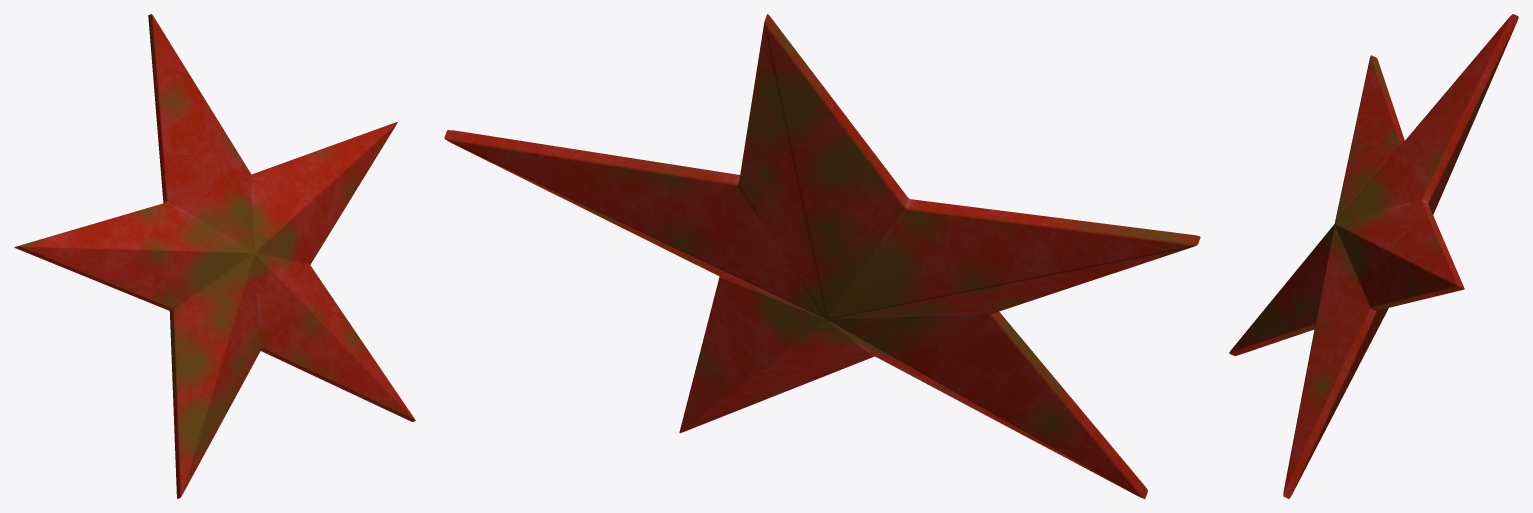
File: svesda.fbx
3 renders of one model, left to right at view 1: azimuth 30°, elevation 25°; view 2: azimuth 150°, elevation 25°; view 3: azimuth 270°, elevation 25°, orthographic. The views are drawn at different scales.
Visible parts, largest first — view 1: Star_0; view 2: Star_0; view 3: Star_0.
Part boxes in pixels (bbox=[...]): Star_0: bbox=[14, 14, 415, 498]; Star_0: bbox=[444, 14, 1200, 498]; Star_0: bbox=[1229, 14, 1518, 498].
Bounding box in the file's own units: 184 × 154 × 101.
